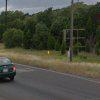Tree: (13, 5, 100, 56)
